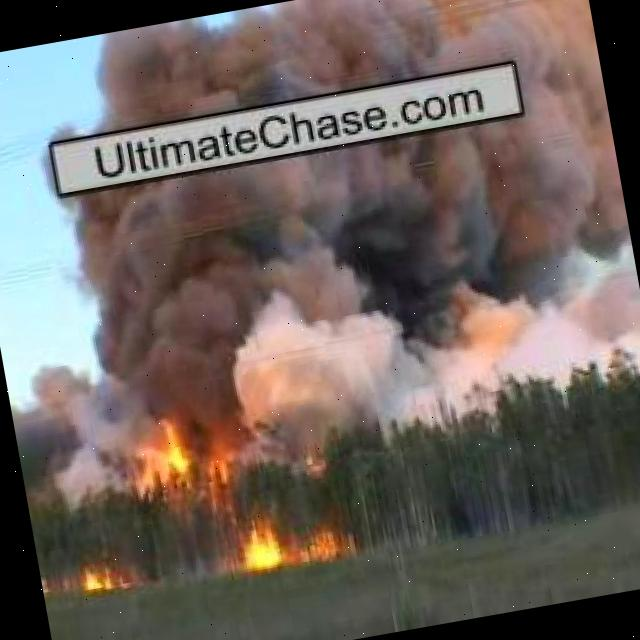fire: (134, 399, 192, 478), (236, 518, 288, 574), (78, 556, 116, 588)
